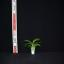leaf: (23, 40, 33, 45), (33, 38, 41, 44), (25, 43, 33, 47), (33, 43, 40, 47), (33, 42, 42, 45), (27, 45, 32, 47), (29, 46, 32, 48), (33, 46, 38, 47)
